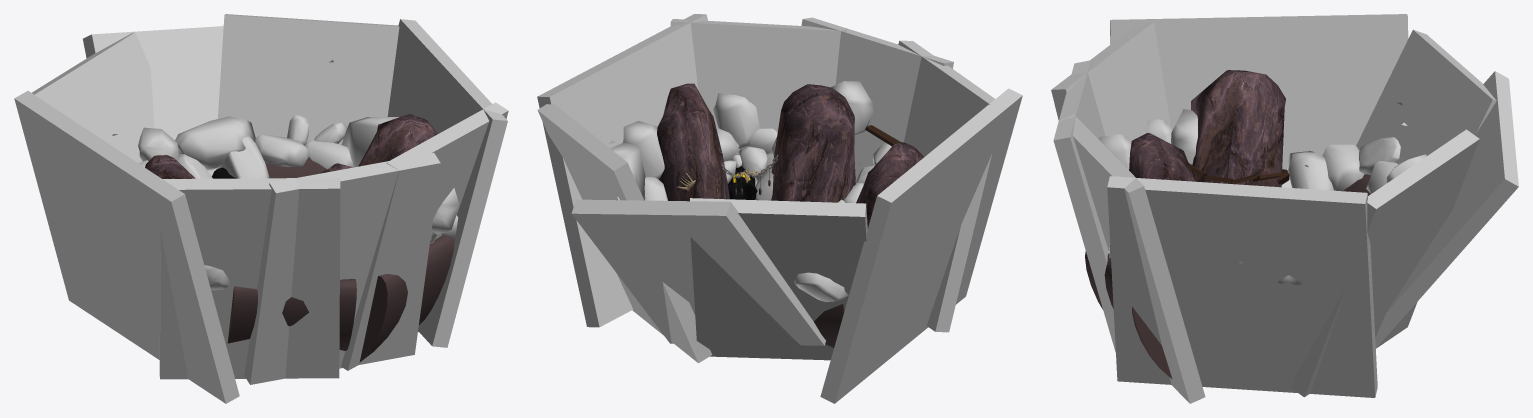
File: MapCombinedFirstPass.fbx
3 renders of one model, left to right at view 1: azimuth 30°, elevation 25°; view 2: azimuth 150°, elevation 25°; view 3: azimuth 270°, elevation 25°, orthographic. The views are drawn at different scales.
Visible parts, largest first — view 1: DemonCavesCombined; view 2: DemonCavesCombined; view 3: DemonCavesCombined.
Boxes of the visible parts, bbox=[...] form: DemonCavesCombined: bbox=[14, 14, 508, 403]; DemonCavesCombined: bbox=[537, 14, 1022, 403]; DemonCavesCombined: bbox=[1051, 14, 1518, 403].
Size of the model in its own units: 1854 by 1043 by 1930.
